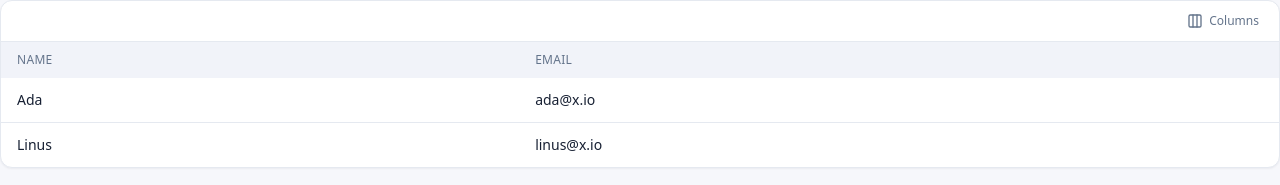
Test: DataTable › lets users hide columns
Expected: the text "ada@x.io" is shown, [519,78,1279,122]
Click the button with aria-label "Choose columns" at (1223, 21), box [1179,9,1267,33]
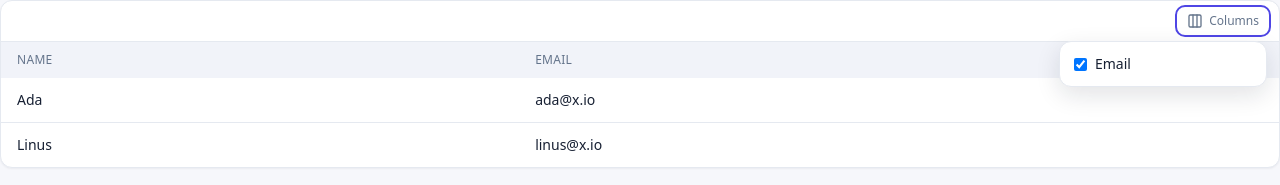
Click the checkbox labelled "Email" at (1080, 64), box [1074,58,1087,70]
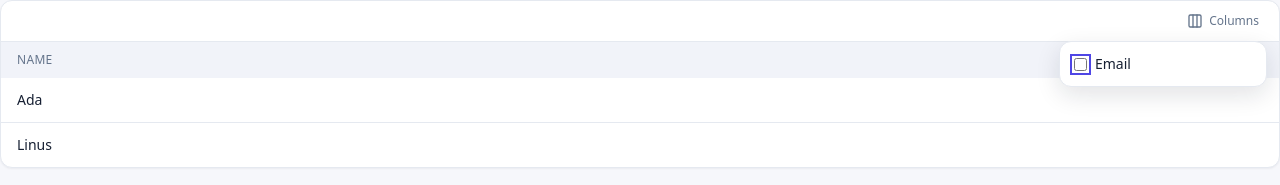
Result: the text "ada@x.io" is gone
